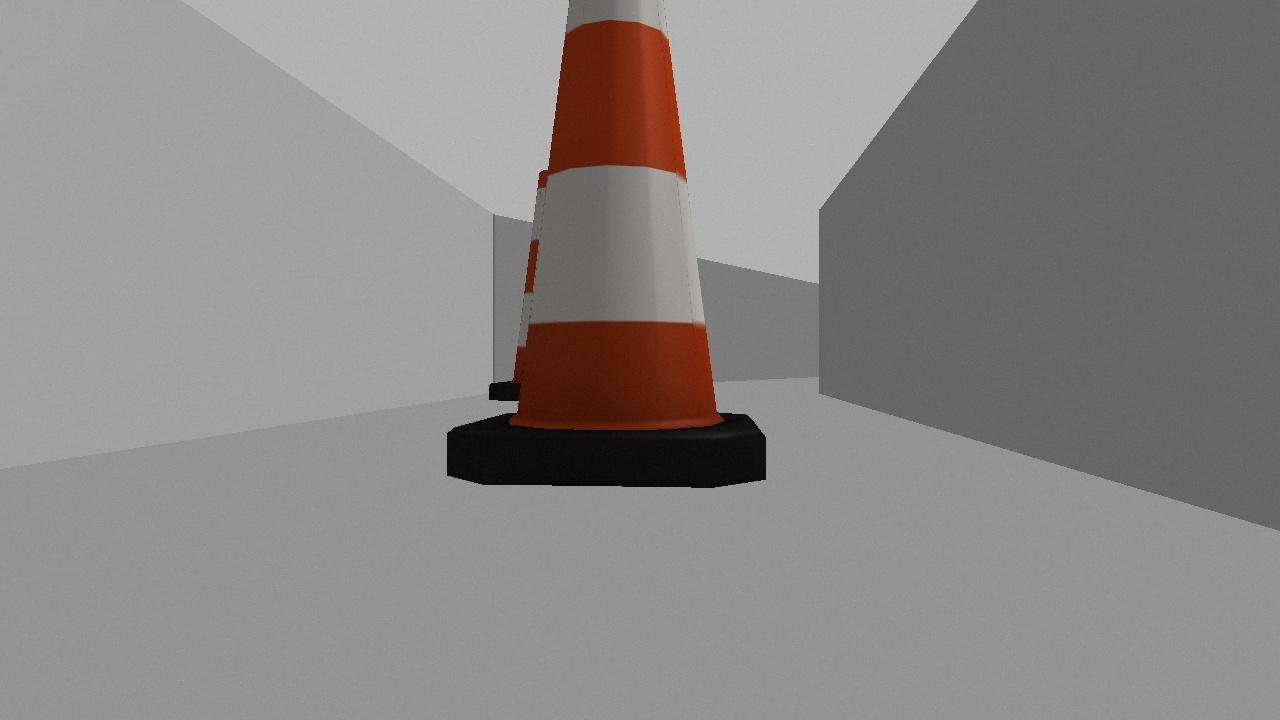cone_barrel: (442, 0, 767, 487)
